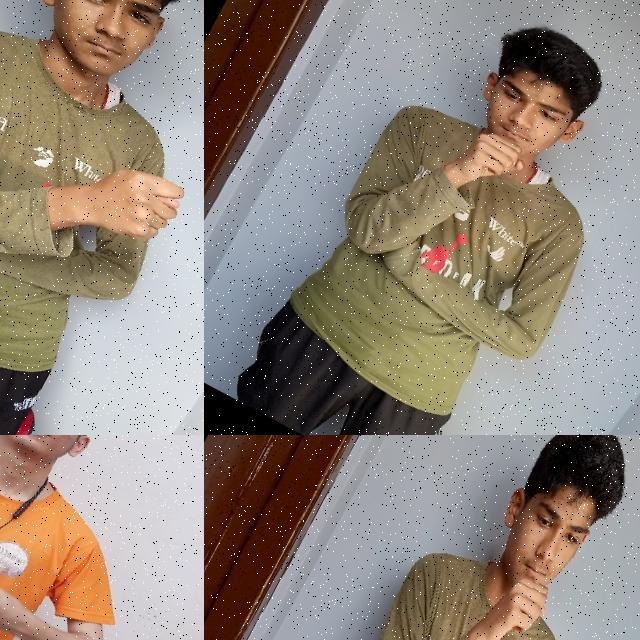Dulya: (74, 146, 193, 264)
Fist Mouth: (403, 4, 624, 256), (444, 435, 640, 640)
Five Fathers: (0, 480, 76, 640)
